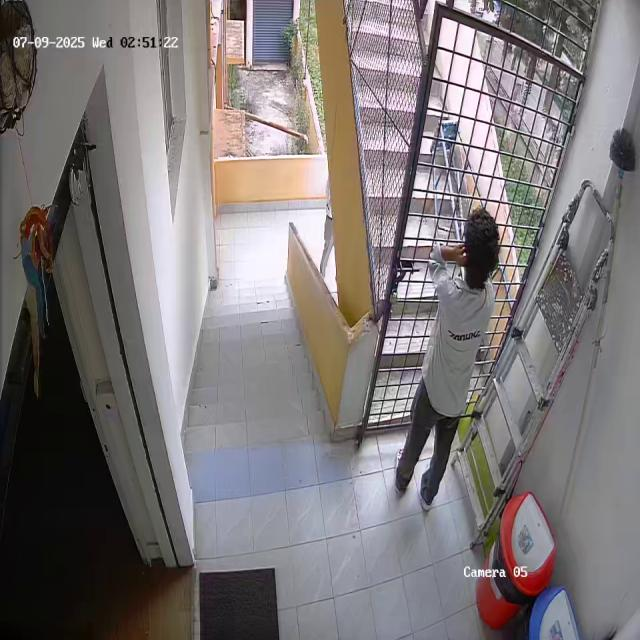person: (395, 209, 496, 516)
